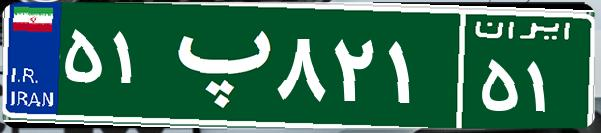1: (385, 28, 445, 110), (110, 28, 158, 105), (525, 38, 570, 115)
2: (330, 28, 385, 110)
5: (57, 26, 110, 107), (475, 38, 525, 113)
8: (273, 28, 330, 110)
پ: (158, 15, 273, 115)
